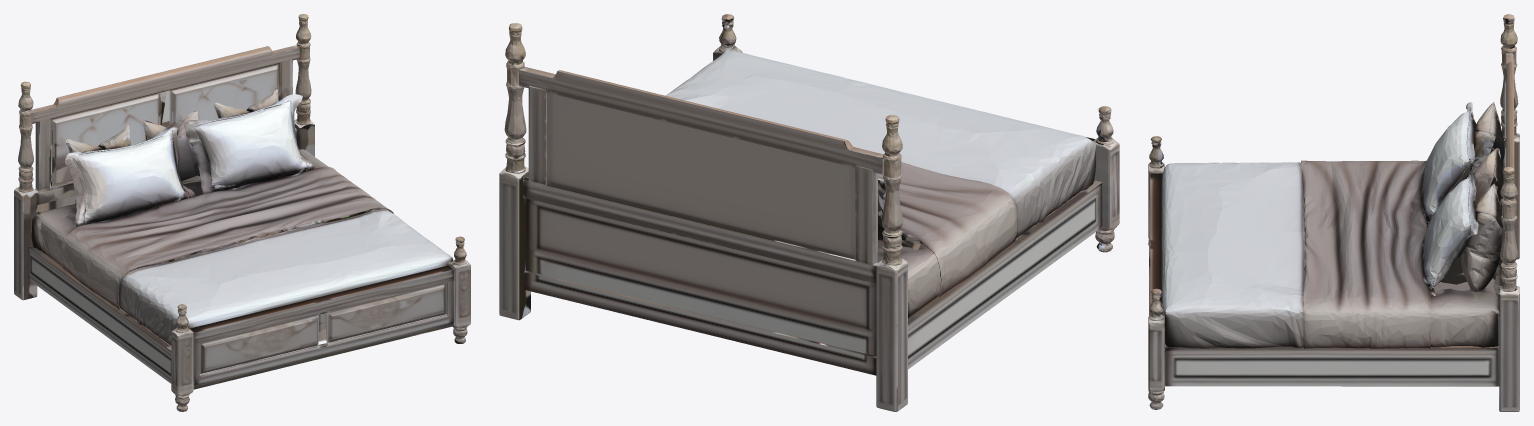
The model's file is edited_mesh.glb.
3 renders of one model, left to right at view 1: azimuth 30°, elevation 25°; view 2: azimuth 150°, elevation 25°; view 3: azimuth 270°, elevation 25°, orthographic. The views are drawn at different scales.
Visible parts, largest first — view 1: solid_001_wire; view 2: solid_001_wire; view 3: solid_001_wire.
Part boxes in pixels (x1=…): solid_001_wire: x1=14, y1=14, x2=470, y2=411; solid_001_wire: x1=499, y1=14, x2=1119, y2=411; solid_001_wire: x1=1148, y1=14, x2=1519, y2=411.
Bounding box in the file's own units: 1.68 × 1.16 × 1.63.
Materials: 1 (1 with a texture image).
